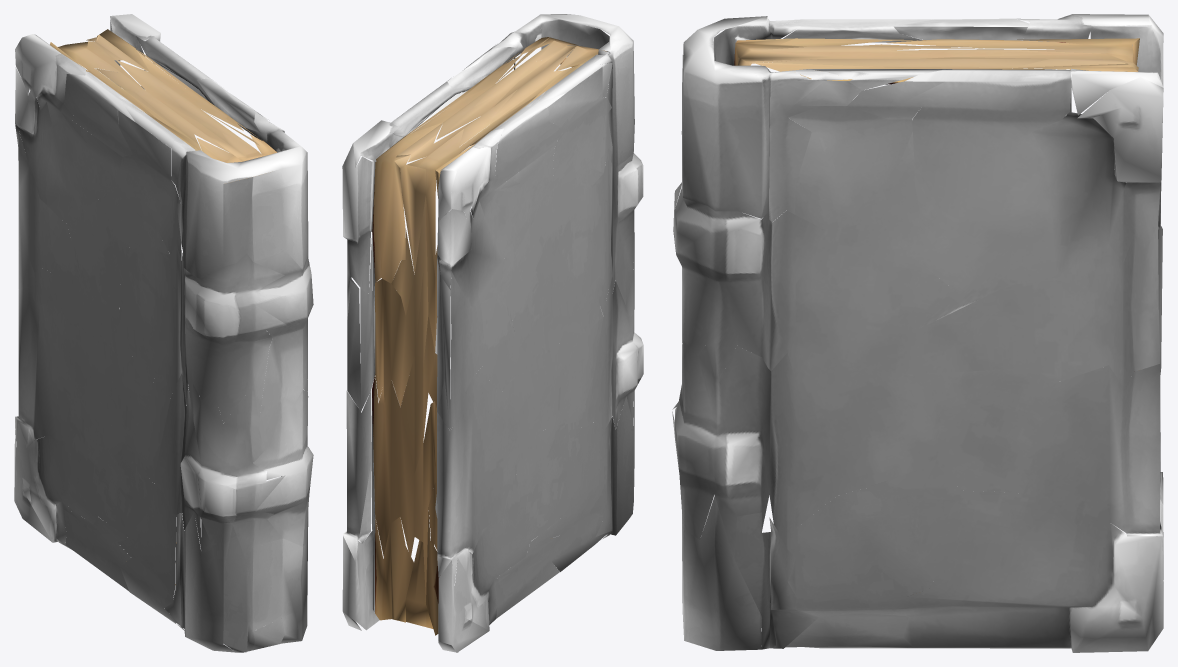
The model's file is closed-shelf-book.glb.
3 views of the same model, side by side, from view 1: azimuth 30°, elevation 25°; view 2: azimuth 150°, elevation 25°; view 3: azimuth 270°, elevation 25° (orthographic). The views are drawn at different scales.
Parts seen in each view (by area): view 1: Shelf book; view 2: Shelf book; view 3: Shelf book.
Boxes of the visible parts, left/top/right/bottom form: Shelf book: left=14, top=14, right=313, bottom=652; Shelf book: left=342, top=14, right=643, bottom=652; Shelf book: left=672, top=14, right=1163, bottom=652.
Bounding box in the file's own units: 0.065 × 0.26 × 0.2.
Materials: 2 (2 with a texture image).
